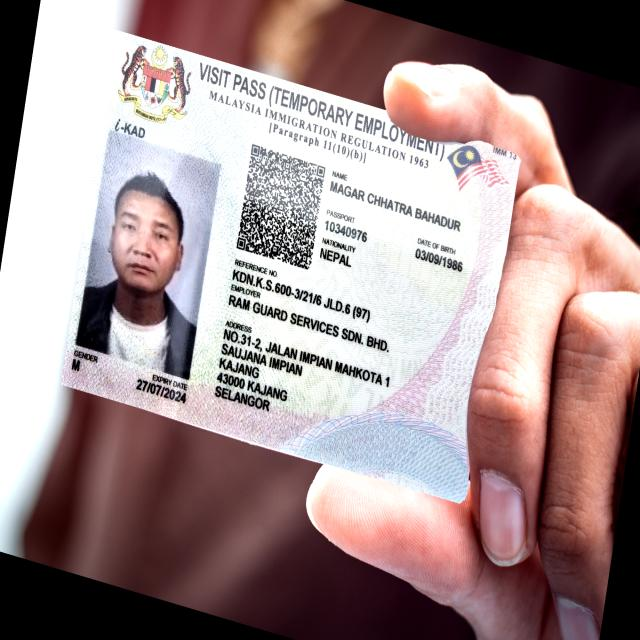ikad-temp: (57, 26, 522, 504)
